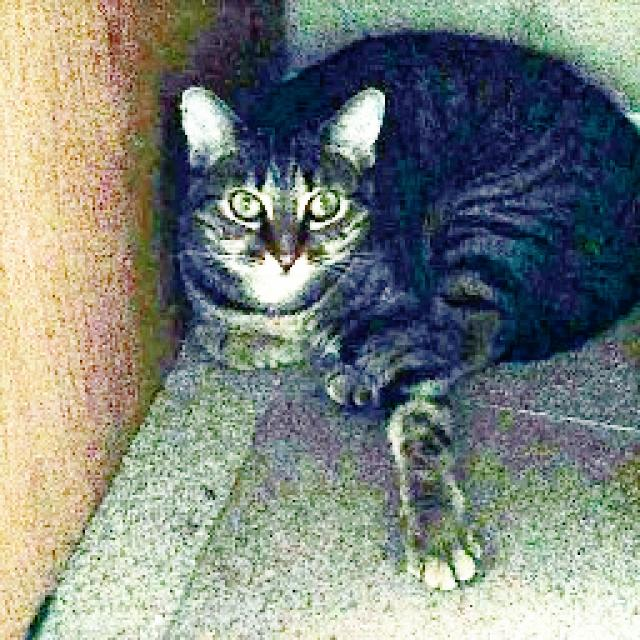cat: (140, 24, 640, 592)
